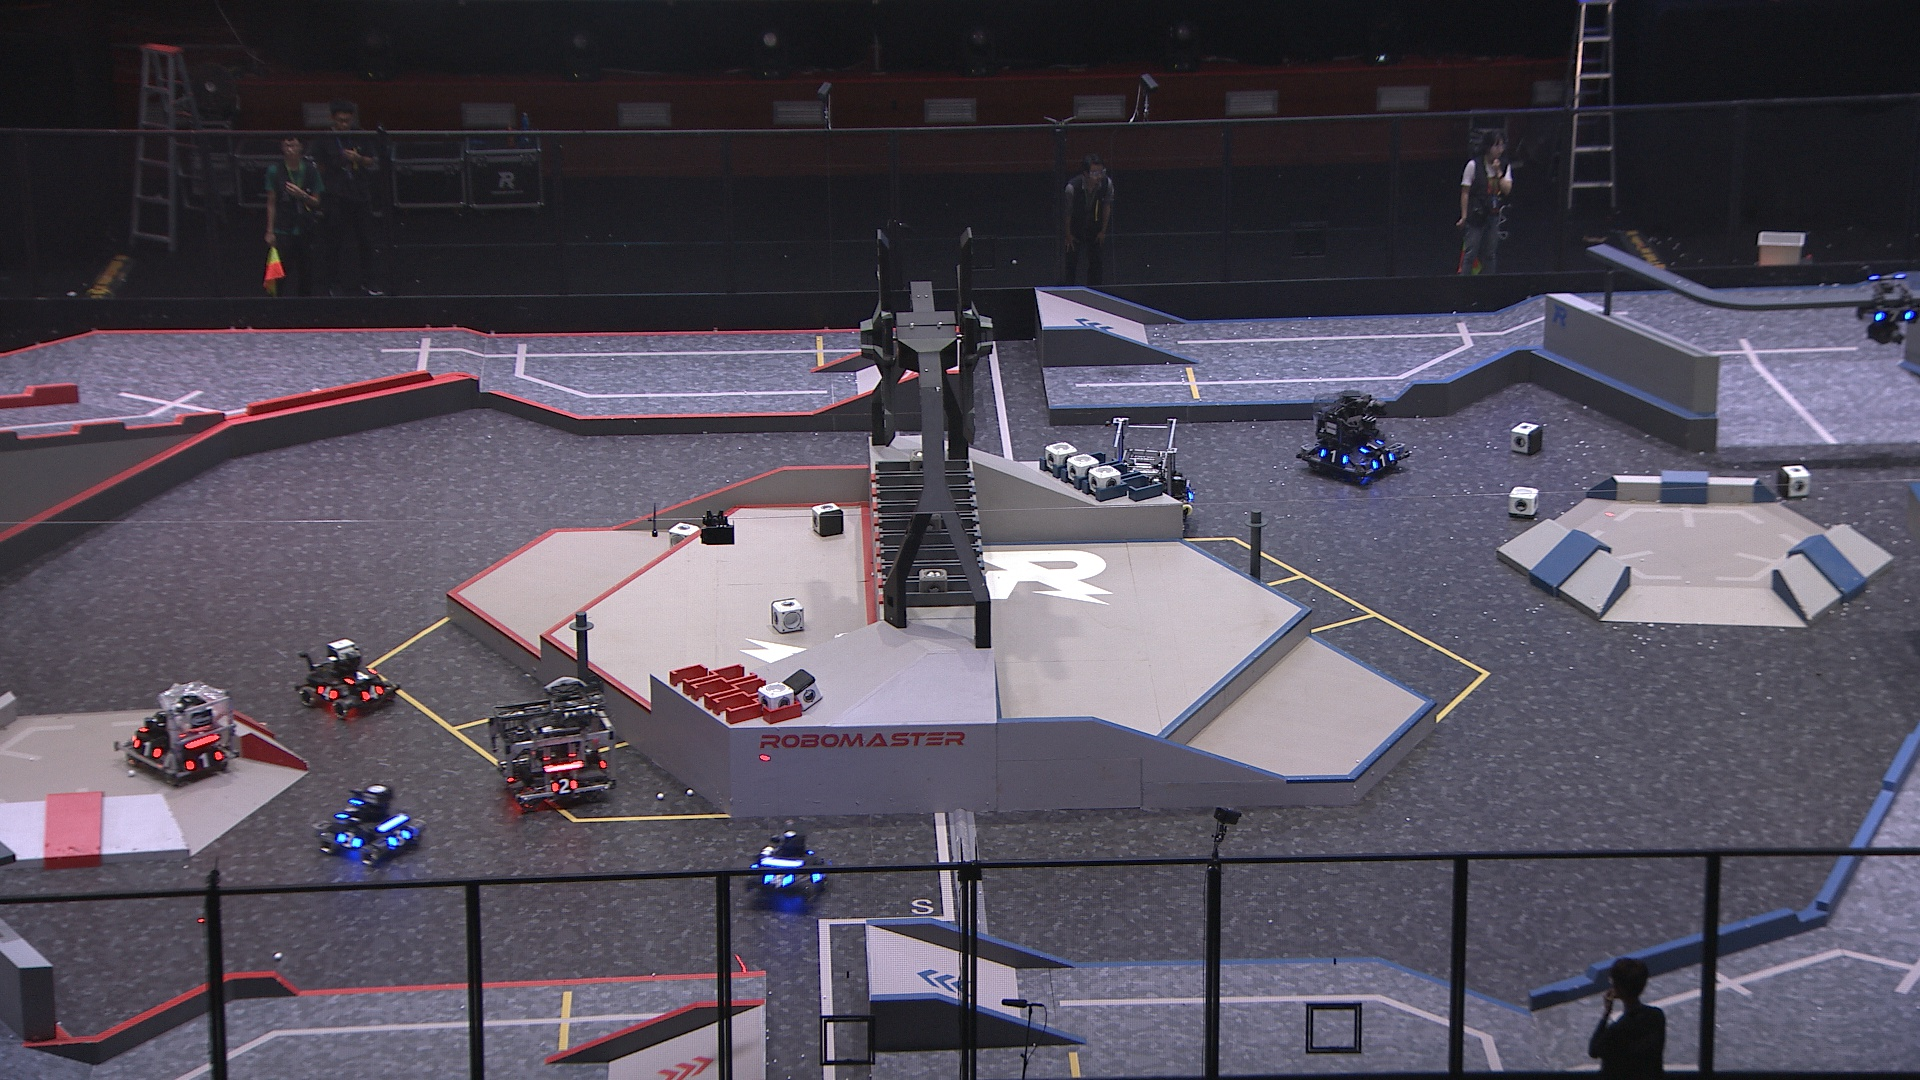armor: (183, 750, 225, 771), (1873, 309, 1916, 327), (760, 870, 795, 891), (131, 740, 164, 760), (550, 778, 580, 796), (339, 669, 376, 683), (334, 831, 363, 849), (1357, 436, 1386, 455), (386, 828, 411, 849), (1319, 448, 1349, 465), (359, 684, 385, 702), (314, 684, 340, 700), (1370, 454, 1394, 469)
car: (487, 676, 618, 812), (115, 680, 237, 787), (1296, 389, 1411, 484), (1101, 417, 1192, 531), (295, 636, 404, 719), (318, 785, 429, 865), (741, 825, 831, 907)
watcher: (1855, 272, 1920, 344)
